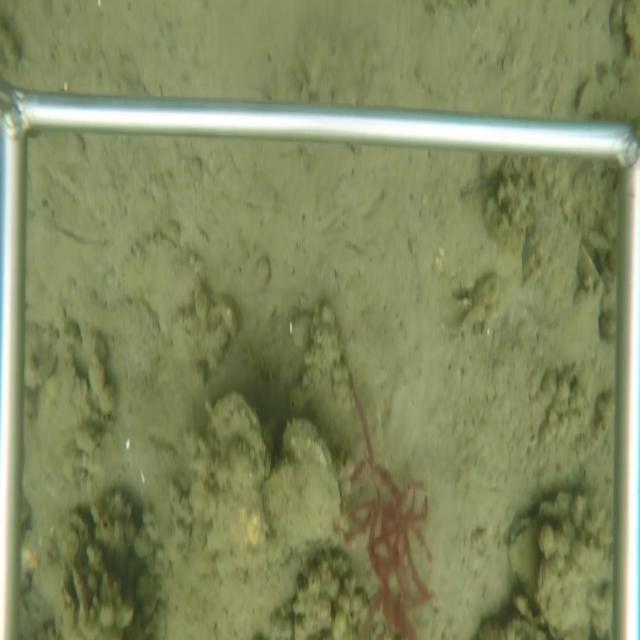Oyster-Indeterminate: (185, 389, 274, 580), (259, 417, 345, 555)
Oyster-Open: (504, 510, 539, 605)
